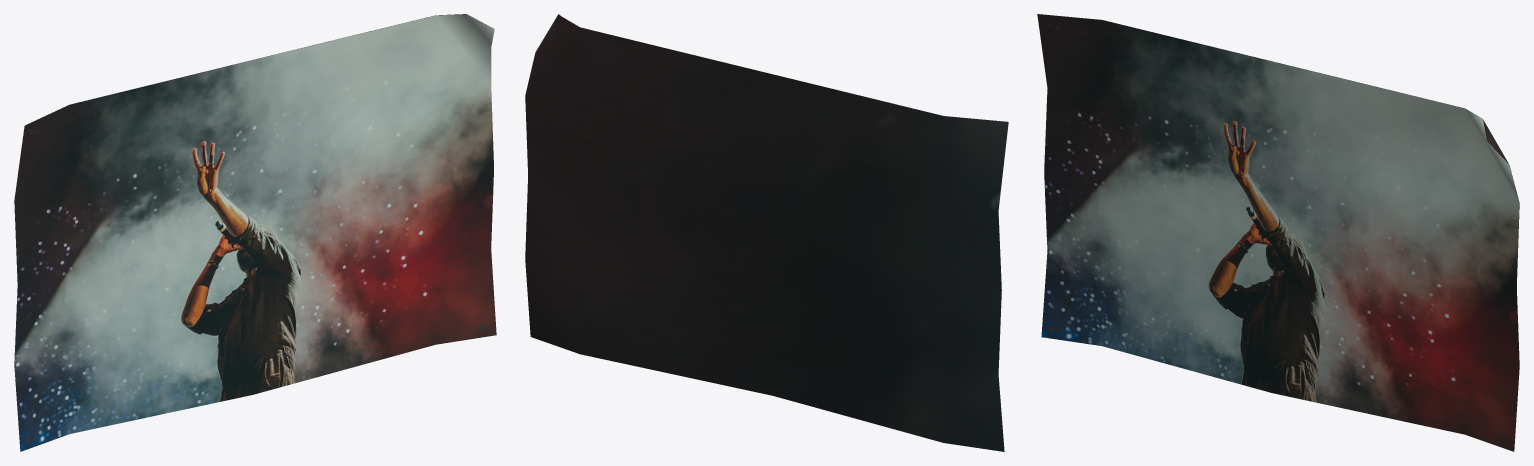
The model's file is Poster.FBX.
The picture shows the model from 3 angles, left to right: view 1: azimuth 30°, elevation 25°; view 2: azimuth 150°, elevation 25°; view 3: azimuth 330°, elevation 25°; orthographic projection.
Visible parts, largest first — view 1: poster; view 2: poster; view 3: poster.
Part boxes in pixels (bbox=[...]): poster: bbox=[14, 14, 496, 451]; poster: bbox=[525, 14, 1008, 451]; poster: bbox=[1037, 14, 1519, 451].
Size of the model in its own units: 130 by 86.13 by 8.84.
Materials: 1 (1 with a texture image).
